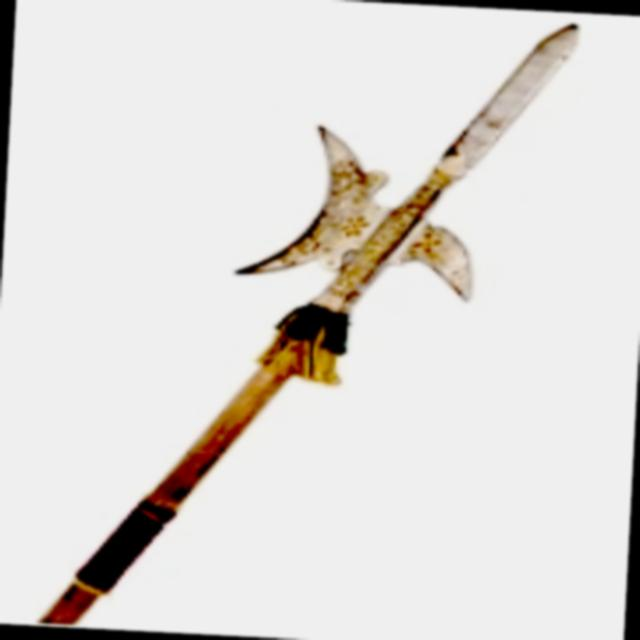spear: (38, 0, 603, 640)
